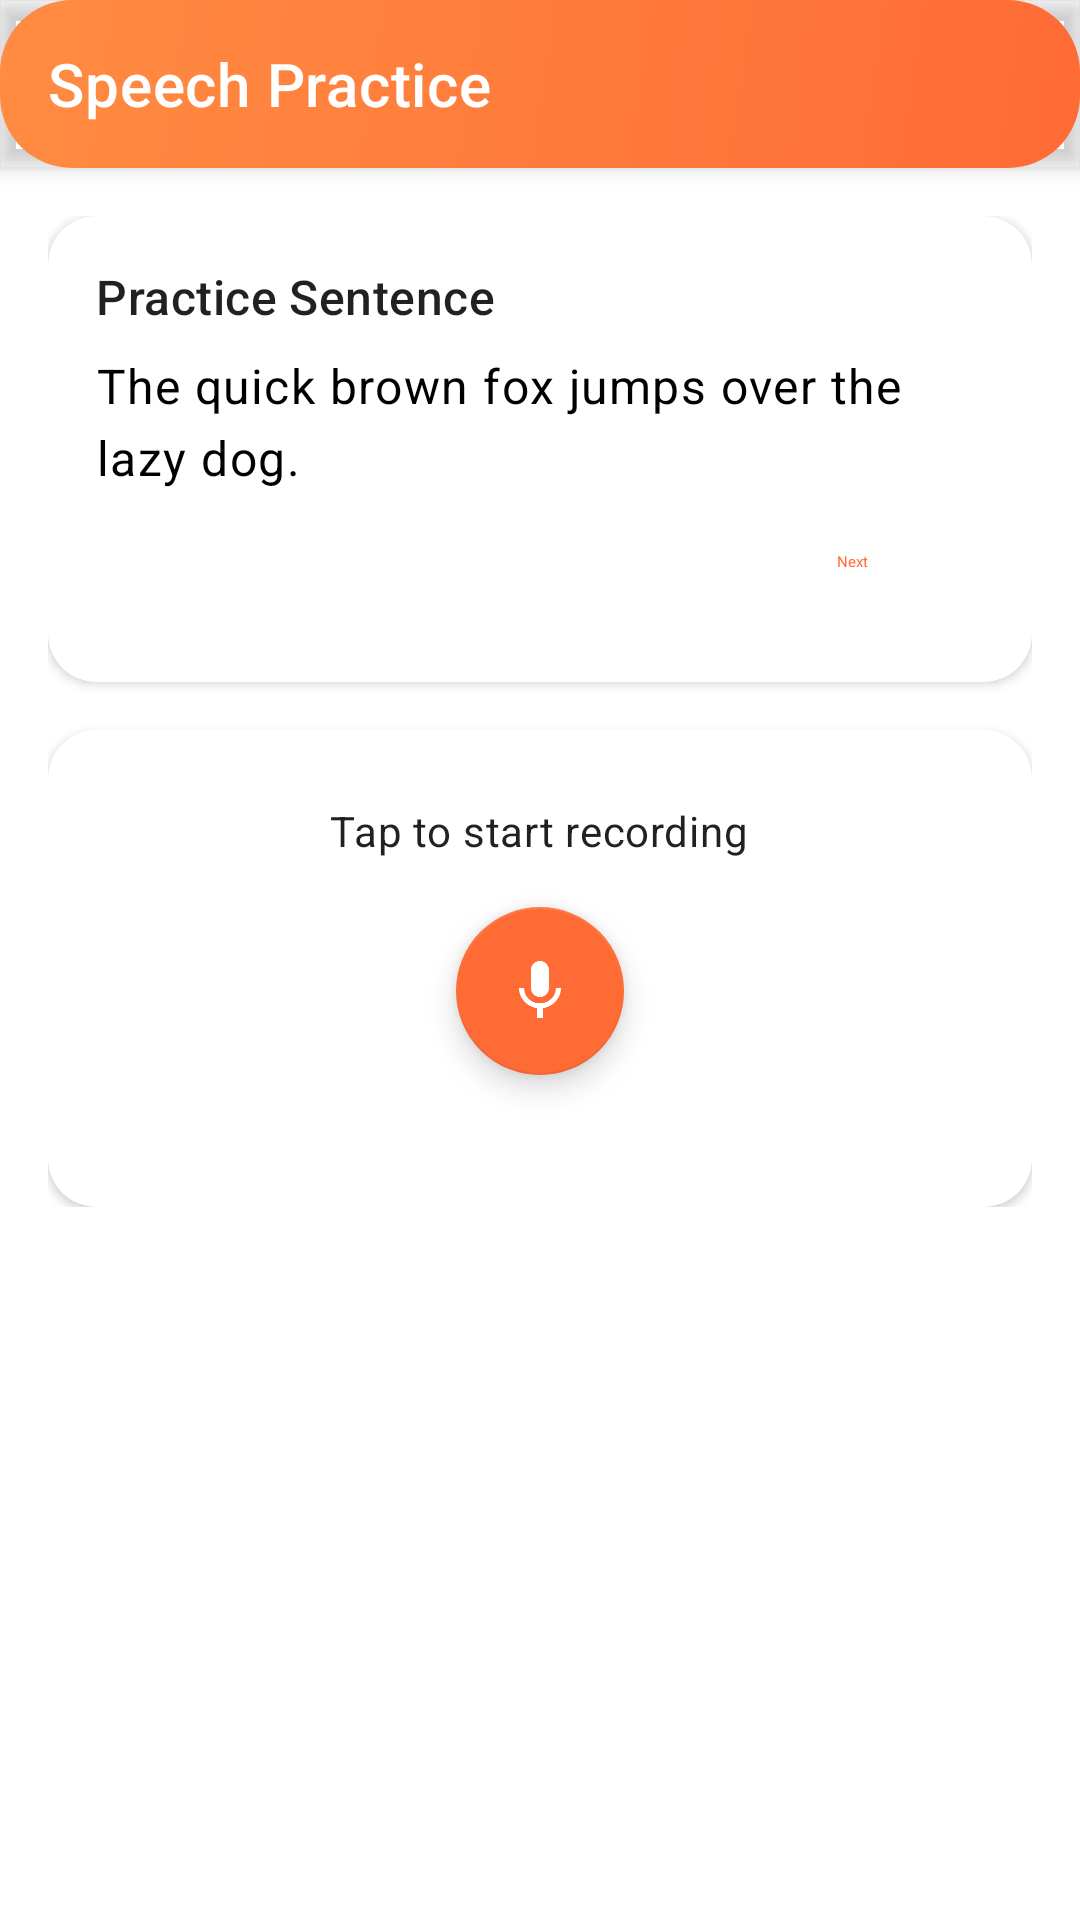

Where icons sit on this 1080px x 1920px app screen, as rect(x1, y1, x2, y2):
mic: rect(456, 907, 624, 1075)
